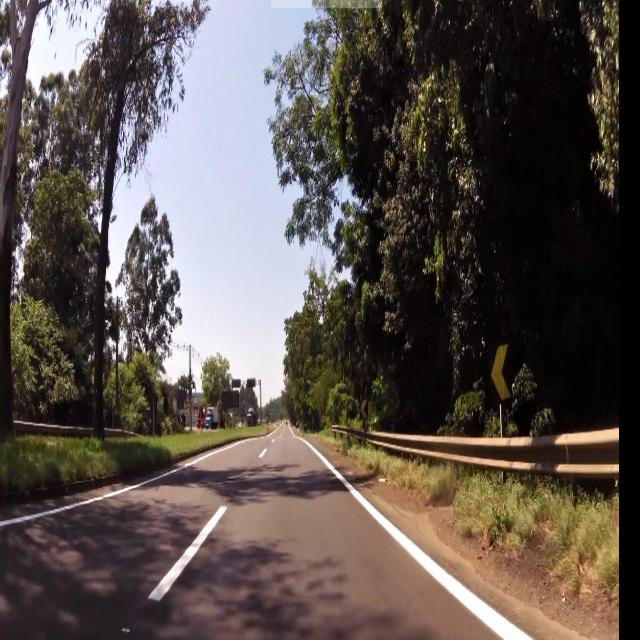Del: (486, 329, 513, 406)
